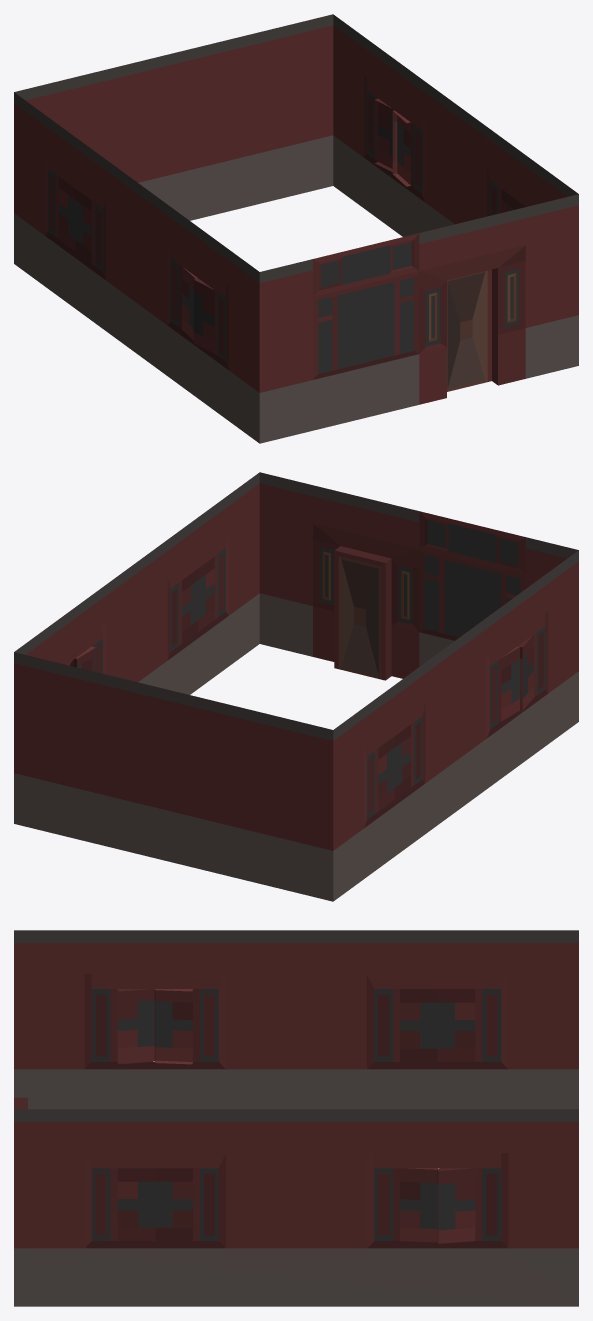
The model's file is BuildingA-Sm_ALOD1.fbx.
The picture shows the model from 3 angles, top to bottom: view 1: azimuth 30°, elevation 25°; view 2: azimuth 150°, elevation 25°; view 3: azimuth 270°, elevation 25°; orthographic projection. The views are drawn at different scales.
Visible parts, largest first — view 1: BuildingA-Sm_ALOD1; view 2: BuildingA-Sm_ALOD1; view 3: BuildingA-Sm_ALOD1.
Boxes of the visible parts, x1,y1,x2,y2 form: BuildingA-Sm_ALOD1: (14, 14, 578, 443); BuildingA-Sm_ALOD1: (14, 472, 578, 901); BuildingA-Sm_ALOD1: (14, 930, 578, 1306).
Size of the model in its own units: 773 by 386 by 1000.
